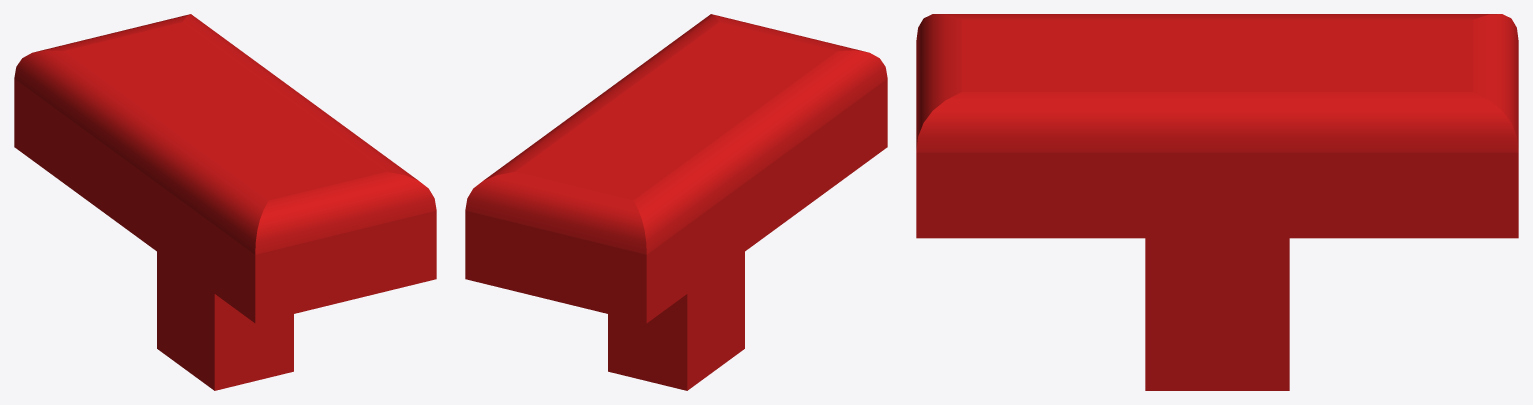
The model's file is Ob_Switch.FBX.
3 views of the same model, side by side, from view 1: azimuth 30°, elevation 25°; view 2: azimuth 150°, elevation 25°; view 3: azimuth 270°, elevation 25° (orthographic). The views are drawn at different scales.
Parts seen in each view (by area): view 1: Handle; view 2: Handle; view 3: Handle.
Part boxes in pixels (x1,y1,x2,y2): Handle: (14, 14, 436, 390); Handle: (465, 14, 887, 390); Handle: (916, 14, 1518, 390).
Bounding box in the file's own units: 8.24 × 10.79 × 18.95.
